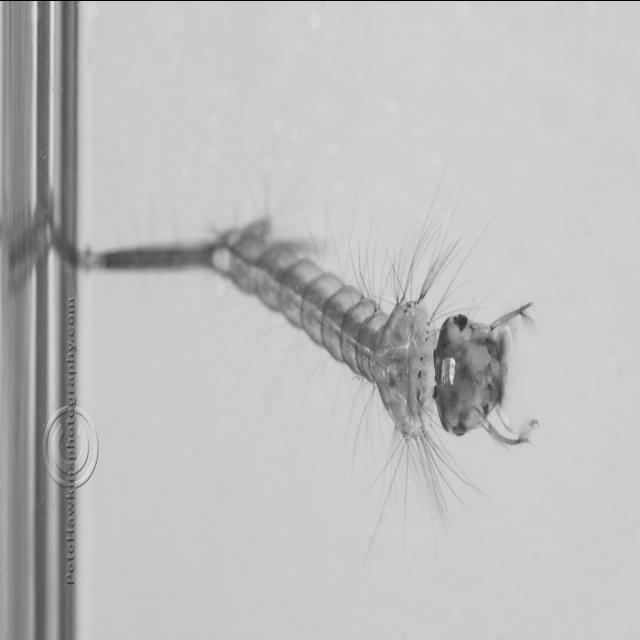larvas: (62, 223, 508, 440)
